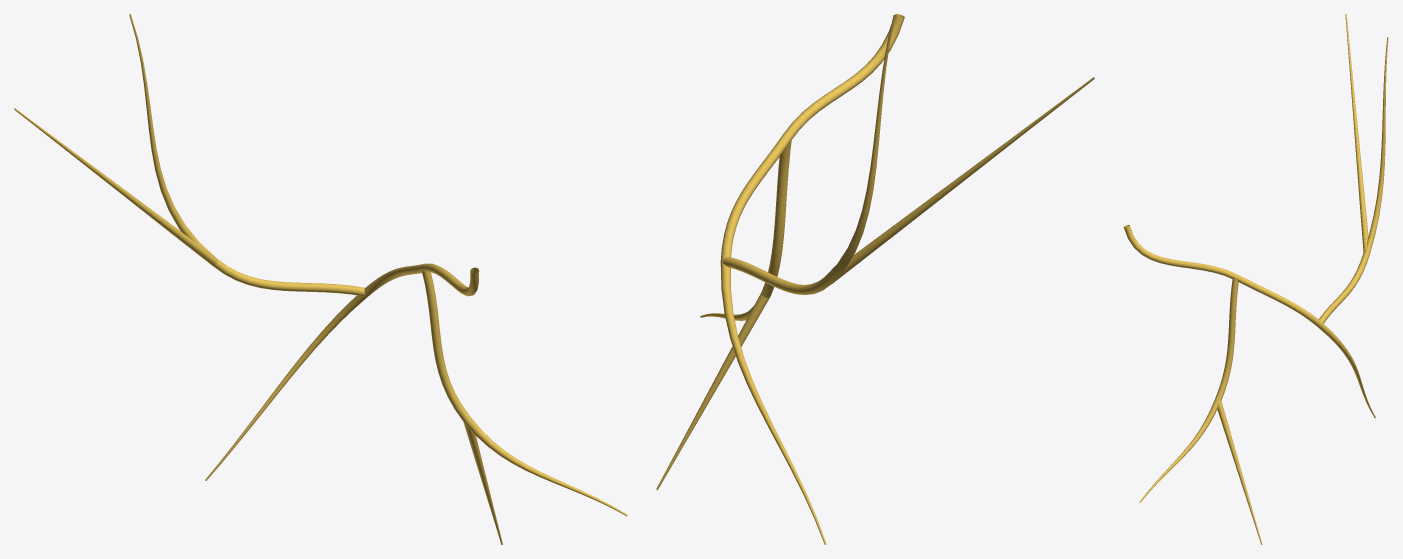
The model's file is Muscular_branches_radial_nerve_left.glb.
3 views of the same model, side by side, from view 1: azimuth 30°, elevation 25°; view 2: azimuth 150°, elevation 25°; view 3: azimuth 270°, elevation 25° (orthographic). The views are drawn at different scales.
Visible parts, largest first — view 1: Muscular_branches_of_radial_nerve.l_BezierCurve.500; view 2: Muscular_branches_of_radial_nerve.l_BezierCurve.500; view 3: Muscular_branches_of_radial_nerve.l_BezierCurve.500.
Part boxes in pixels (bbox=[...]): Muscular_branches_of_radial_nerve.l_BezierCurve.500: bbox=[14, 14, 627, 544]; Muscular_branches_of_radial_nerve.l_BezierCurve.500: bbox=[656, 14, 1094, 544]; Muscular_branches_of_radial_nerve.l_BezierCurve.500: bbox=[1123, 14, 1388, 544].
Bounding box in the file's own units: 0.062 × 0.0671 × 0.04.
